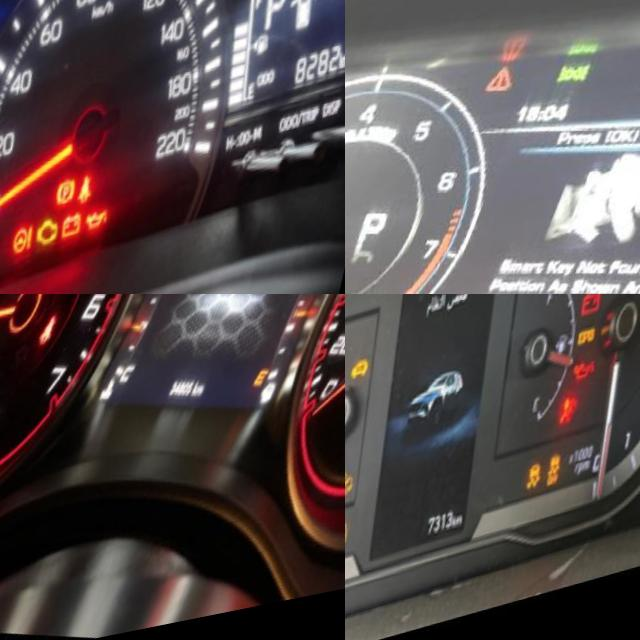Engine cooling system: (0, 3, 14, 46)
security: (362, 362, 389, 396)
